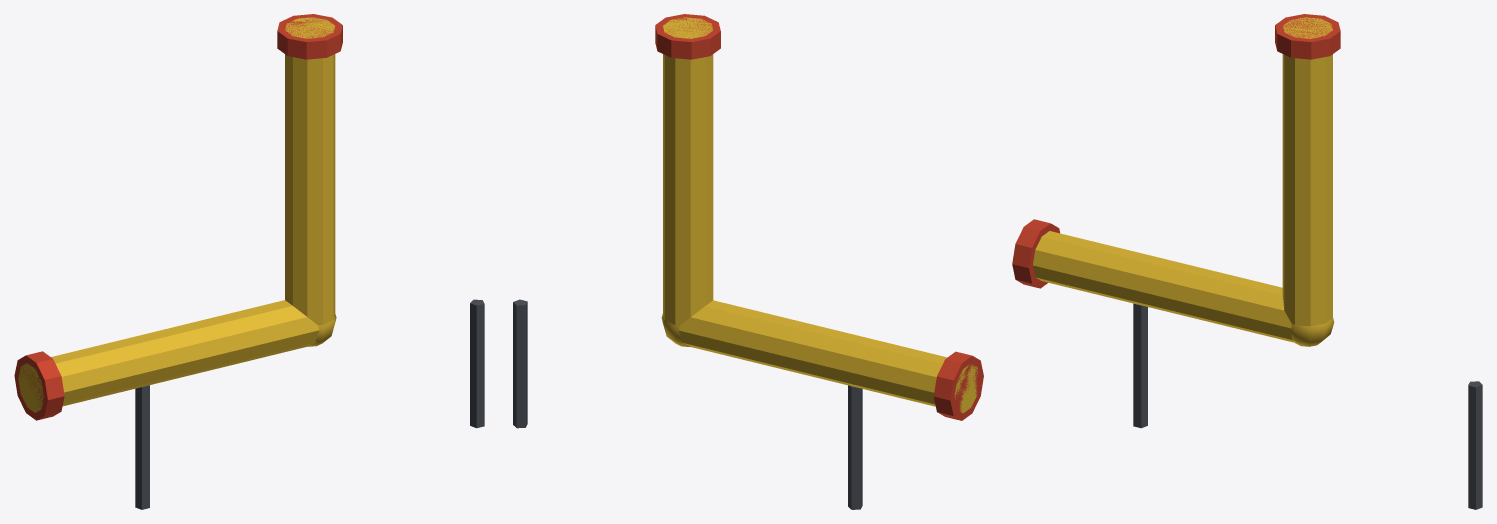
File: PipeG_Riser.fbx
3 renders of one model, left to right at view 1: azimuth 30°, elevation 25°; view 2: azimuth 150°, elevation 25°; view 3: azimuth 330°, elevation 25°, orthographic.
Parts seen in each view (by area): view 1: PipeG_Riser_Body; view 2: PipeG_Riser_Body; view 3: PipeG_Riser_Body.
Part boxes in pixels (bbox=[...]): PipeG_Riser_Body: bbox=[14, 14, 484, 509]; PipeG_Riser_Body: bbox=[513, 14, 983, 509]; PipeG_Riser_Body: bbox=[1012, 14, 1482, 509].
Bounding box in the file's own units: 0.8114 × 0.75 × 0.104.
